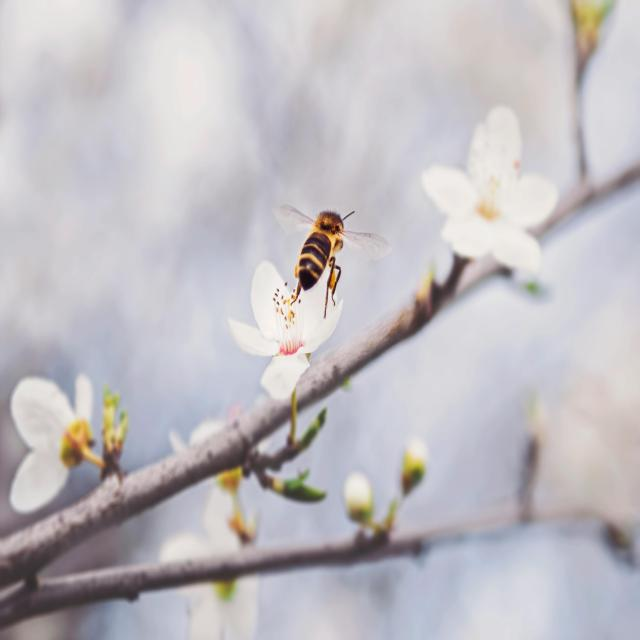bee: (269, 199, 394, 321)
